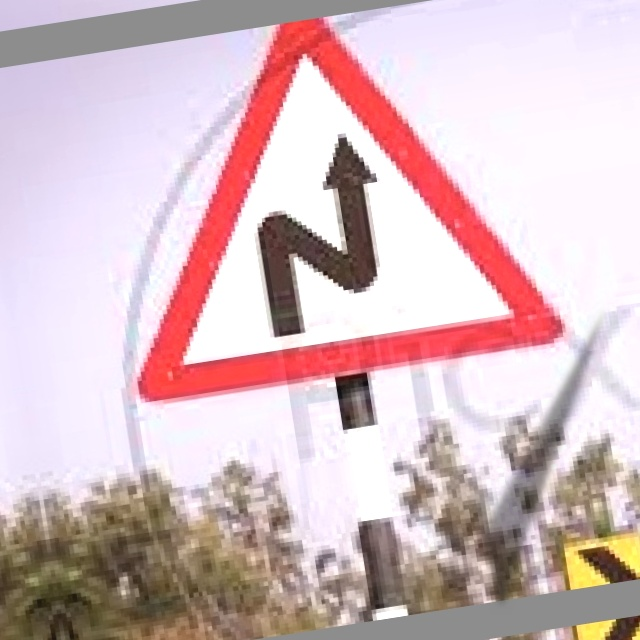Right_Reverse_Bend: (107, 13, 559, 405)
